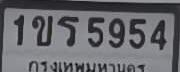1: (13, 14, 23, 45)
4: (150, 19, 165, 49)
5: (128, 18, 145, 48), (87, 16, 104, 46)
9: (108, 17, 124, 47)
A02: (31, 14, 52, 45)
A35: (57, 15, 78, 46)
BKK: (24, 58, 148, 72)
